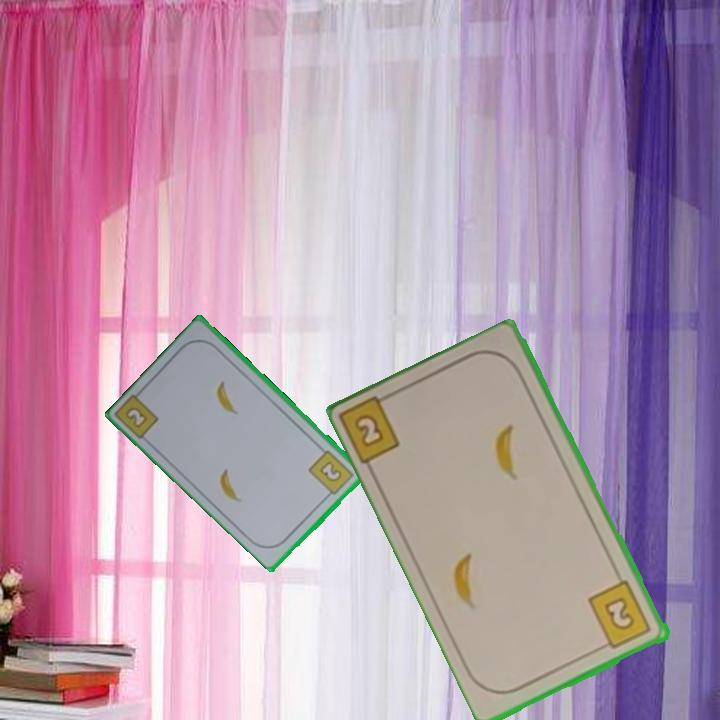2b: (585, 577, 655, 653), (339, 388, 404, 469), (305, 446, 357, 501), (124, 405, 148, 429)
